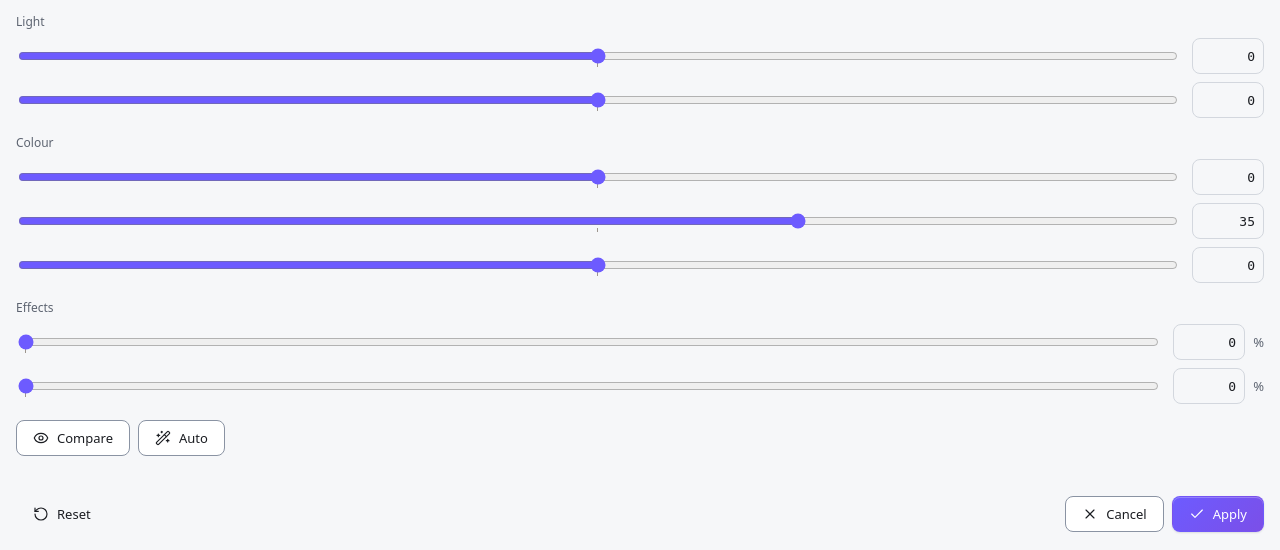
AdjustControls (SCR-03) › commits typed values by the AC-05 rule on leaving the field or Enter, never applying
Replace the text in the 2nd field with "150" at (1228, 100), box [1192,82,1264,118]
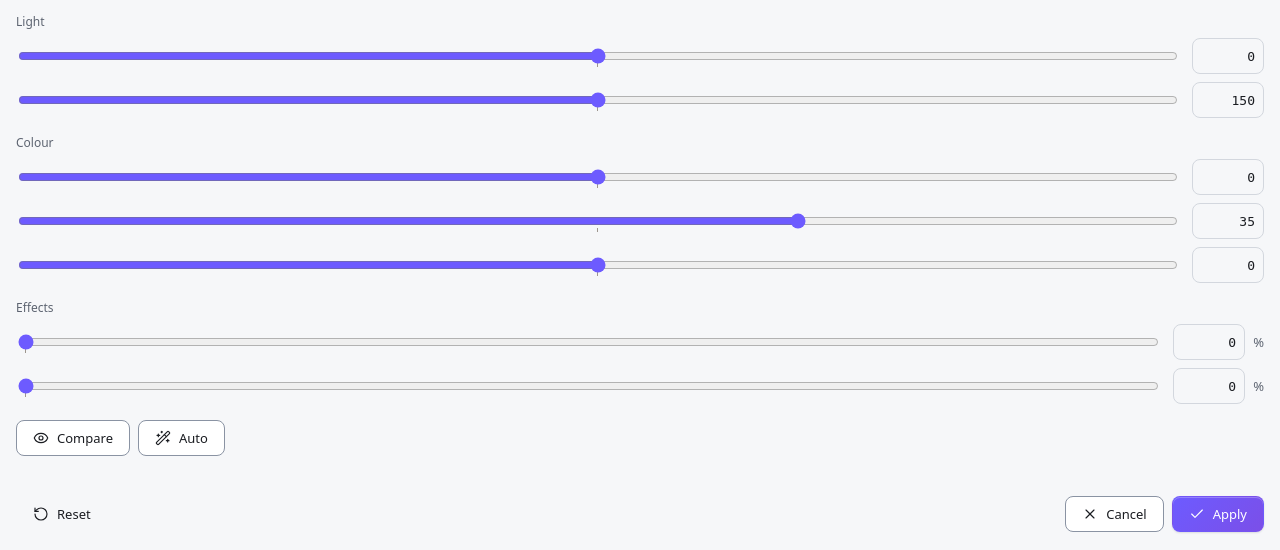
Leave the 2nd field, box [1192,82,1264,118]
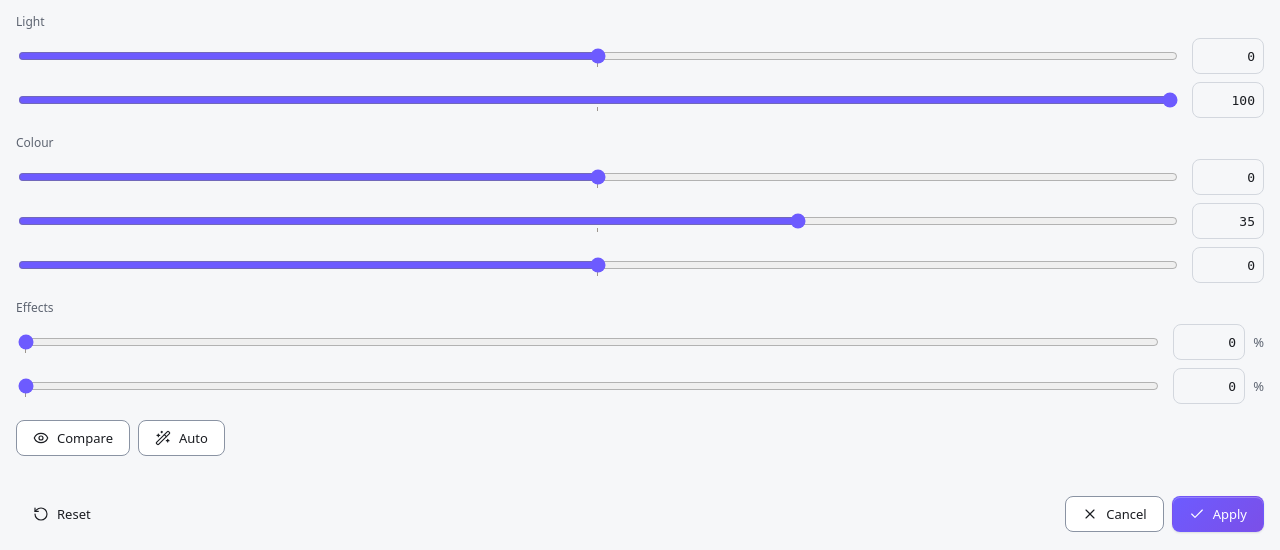
Expected: the 2nd field holds "100", [1192,82,1264,118]
Replace the text in the 7th field with "60%" at (1209, 386), box [1173,368,1245,404]
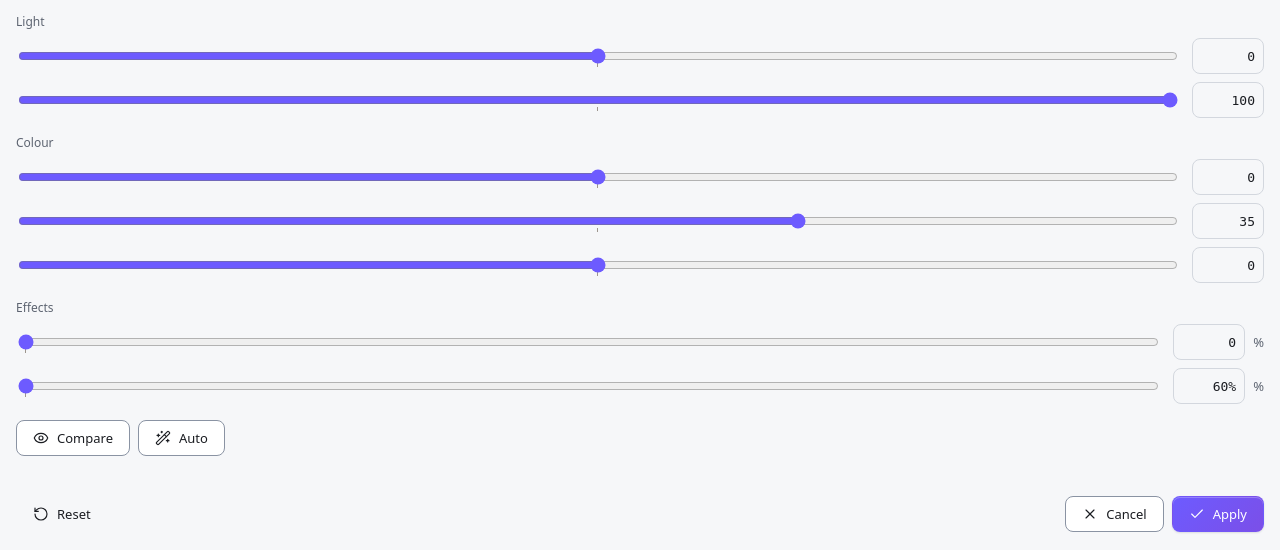
Press Enter in the 7th field, box [1173,368,1245,404]
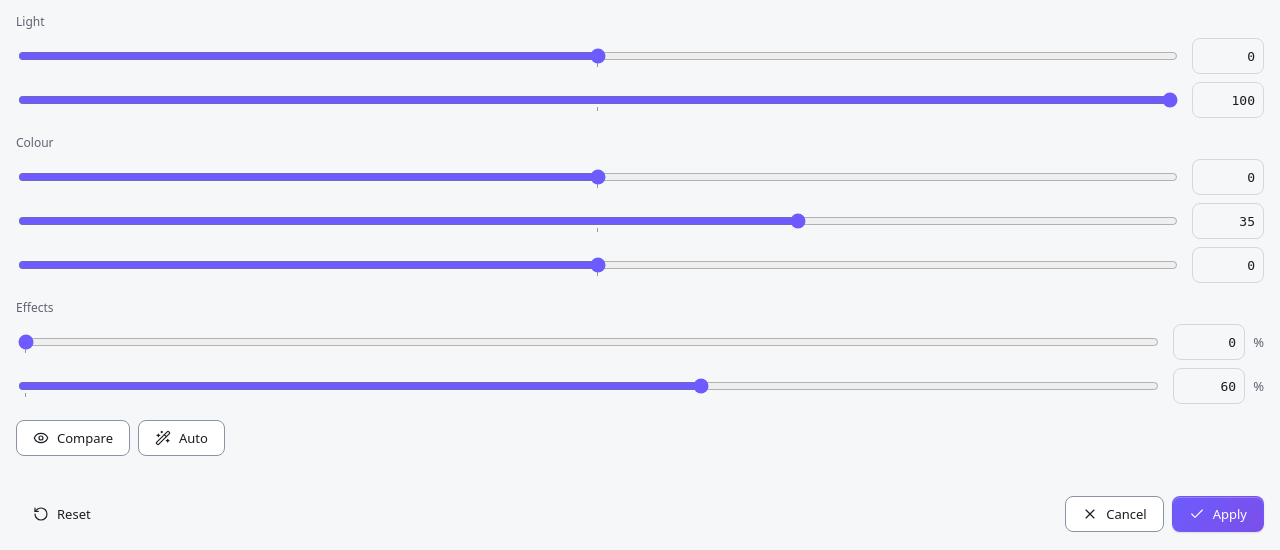
Expected: the 7th field holds "60", [1173,368,1245,404]
